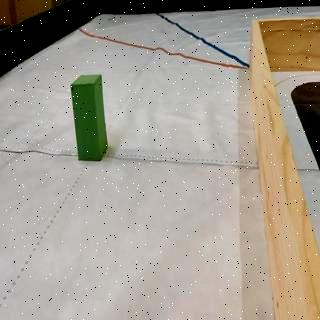greenbox: (70, 74, 106, 160)
